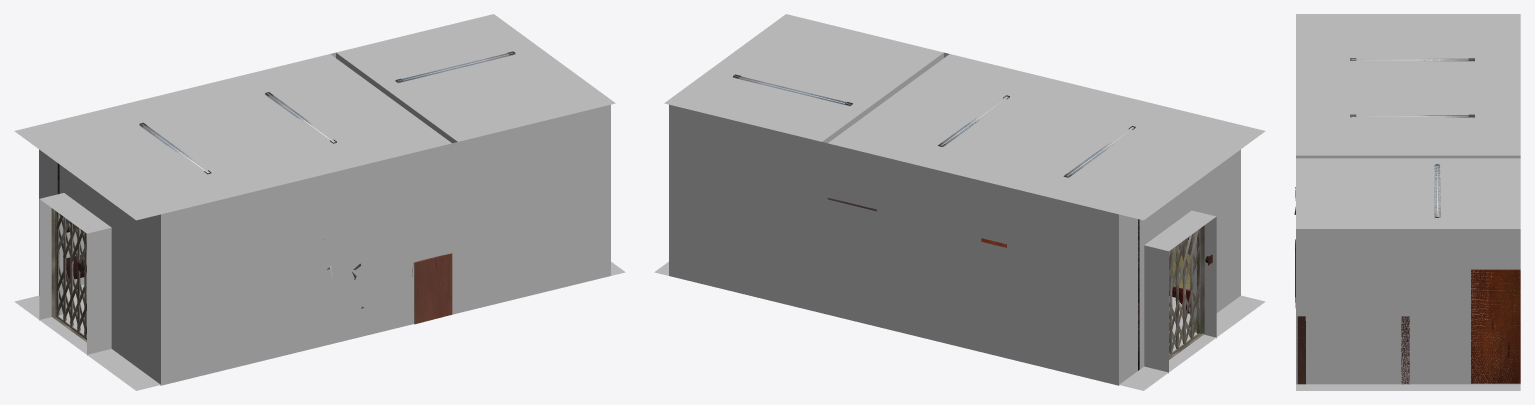
Rendered from old home0107.fbx.
3 renders of one model, left to right at view 1: azimuth 30°, elevation 25°; view 2: azimuth 150°, elevation 25°; view 3: azimuth 270°, elevation 25°, orthographic. The views are drawn at different scales.
Parts seen in each view (by area): view 1: Plane.004, ceiling, Plane.006, walls.001, floor, cupboard02_REN, doorFrame_REN, Plane.001; view 2: Plane.005, ceiling, Plane.006, walls.001, floor, Plane.001, doorFrame_REN; view 3: ceiling, Plane.003, wardrobe_main_REN, roomFloor, Plane, bedFrame_part03_REN, bedFrame_part01_REN, lightBulb_part01_REN, lightBulb_REN.002.
Boxes of the visible parts, x1=… form: Plane.004: x1=161, y1=104, x2=610, y2=385; ceiling: x1=14, y1=14, x2=615, y2=220; Plane.006: x1=39, y1=149, x2=160, y2=385; walls.001: x1=39, y1=193, x2=111, y2=355; floor: x1=14, y1=284, x2=160, y2=390; cupboard02_REN: x1=414, y1=253, x2=452, y2=324; doorFrame_REN: x1=51, y1=208, x2=86, y2=342; Plane.001: x1=336, y1=53, x2=457, y2=143; Plane.005: x1=669, y1=104, x2=1118, y2=385; ceiling: x1=664, y1=14, x2=1265, y2=220; Plane.006: x1=1119, y1=149, x2=1240, y2=385; walls.001: x1=1144, y1=210, x2=1216, y2=373; floor: x1=1119, y1=295, x2=1265, y2=390; Plane.001: x1=822, y1=53, x2=943, y2=143; doorFrame_REN: x1=1169, y1=225, x2=1204, y2=359; ceiling: x1=1296, y1=14, x2=1520, y2=228; Plane.003: x1=1296, y1=229, x2=1520, y2=384; wardrobe_main_REN: x1=1471, y1=269, x2=1520, y2=383; roomFloor: x1=1296, y1=384, x2=1520, y2=390; Plane: x1=1296, y1=155, x2=1520, y2=158; bedFrame_part03_REN: x1=1297, y1=316, x2=1305, y2=384; bedFrame_part01_REN: x1=1401, y1=316, x2=1409, y2=384; lightBulb_part01_REN: x1=1434, y1=165, x2=1440, y2=217; lightBulb_REN.002: x1=1356, y1=59, x2=1468, y2=60.
Size of the model in its own units: 681 by 231 by 296.
